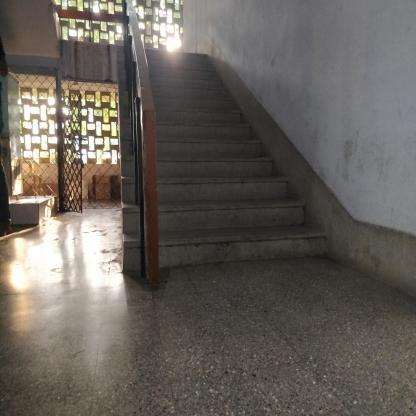stairs: (163, 85, 221, 279)
